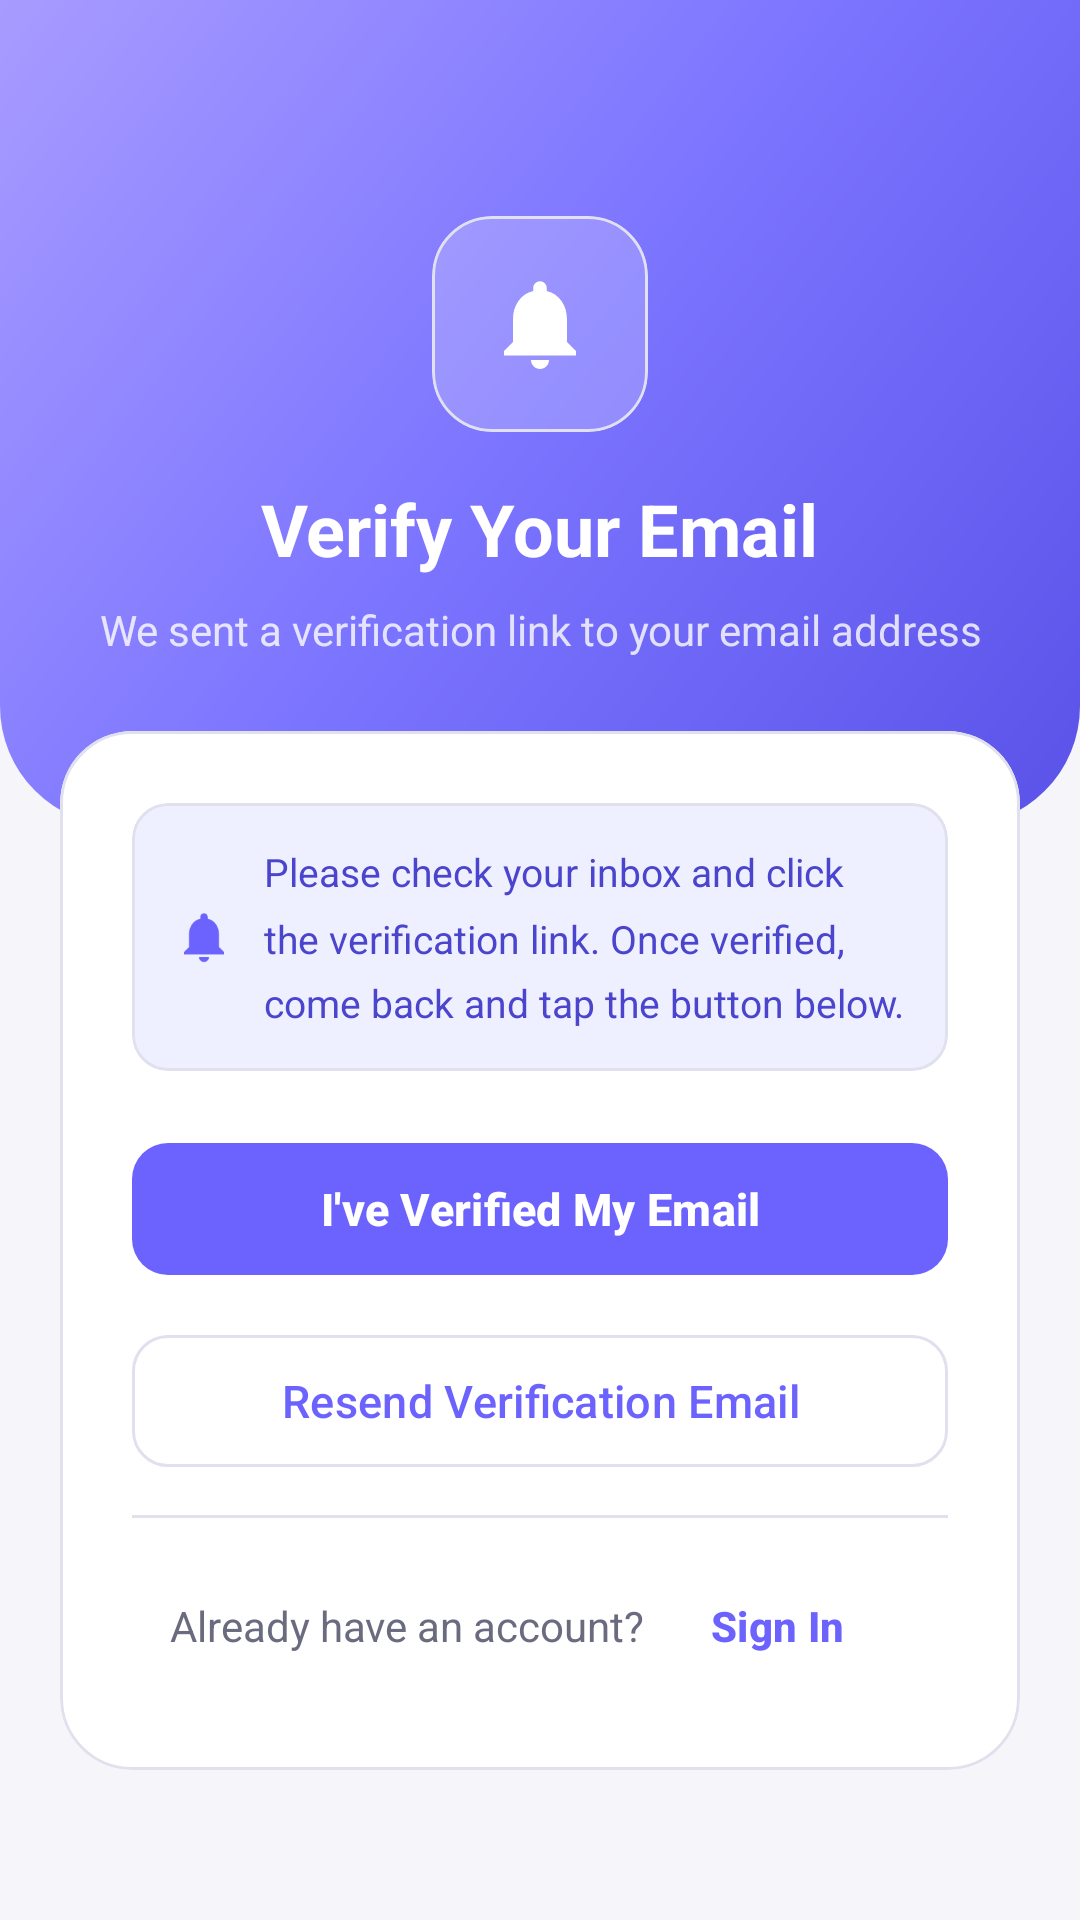

Icons on this 1080×1920 Android screen, each with the point to tap as (x,y):
notification: (540,325), (204,937)
